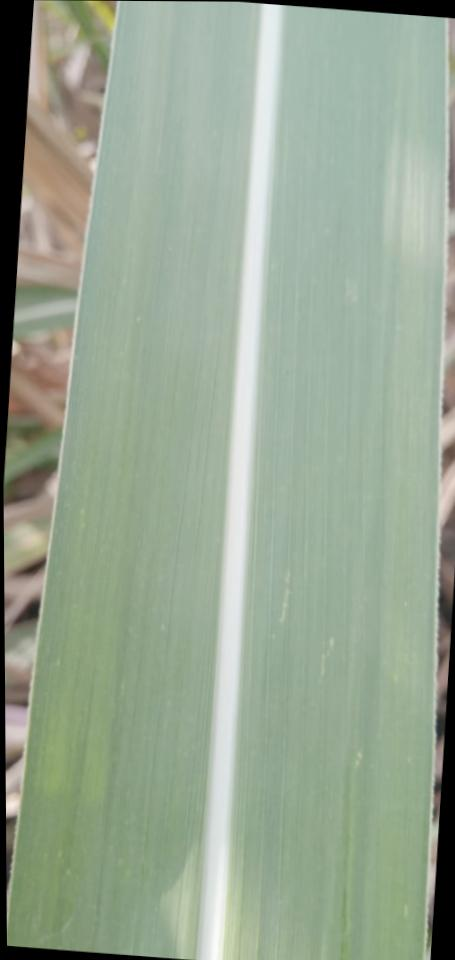Healthy: (7, 1, 450, 960)
